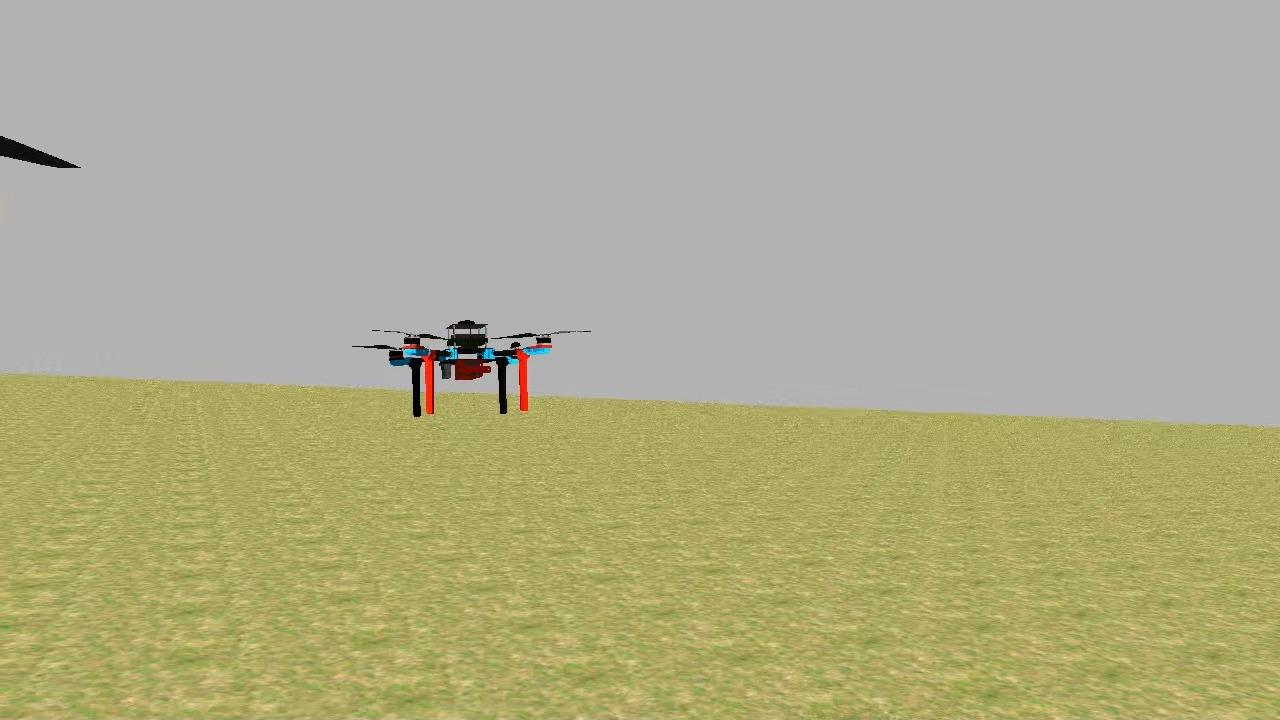UAV: (388, 316, 556, 418)
